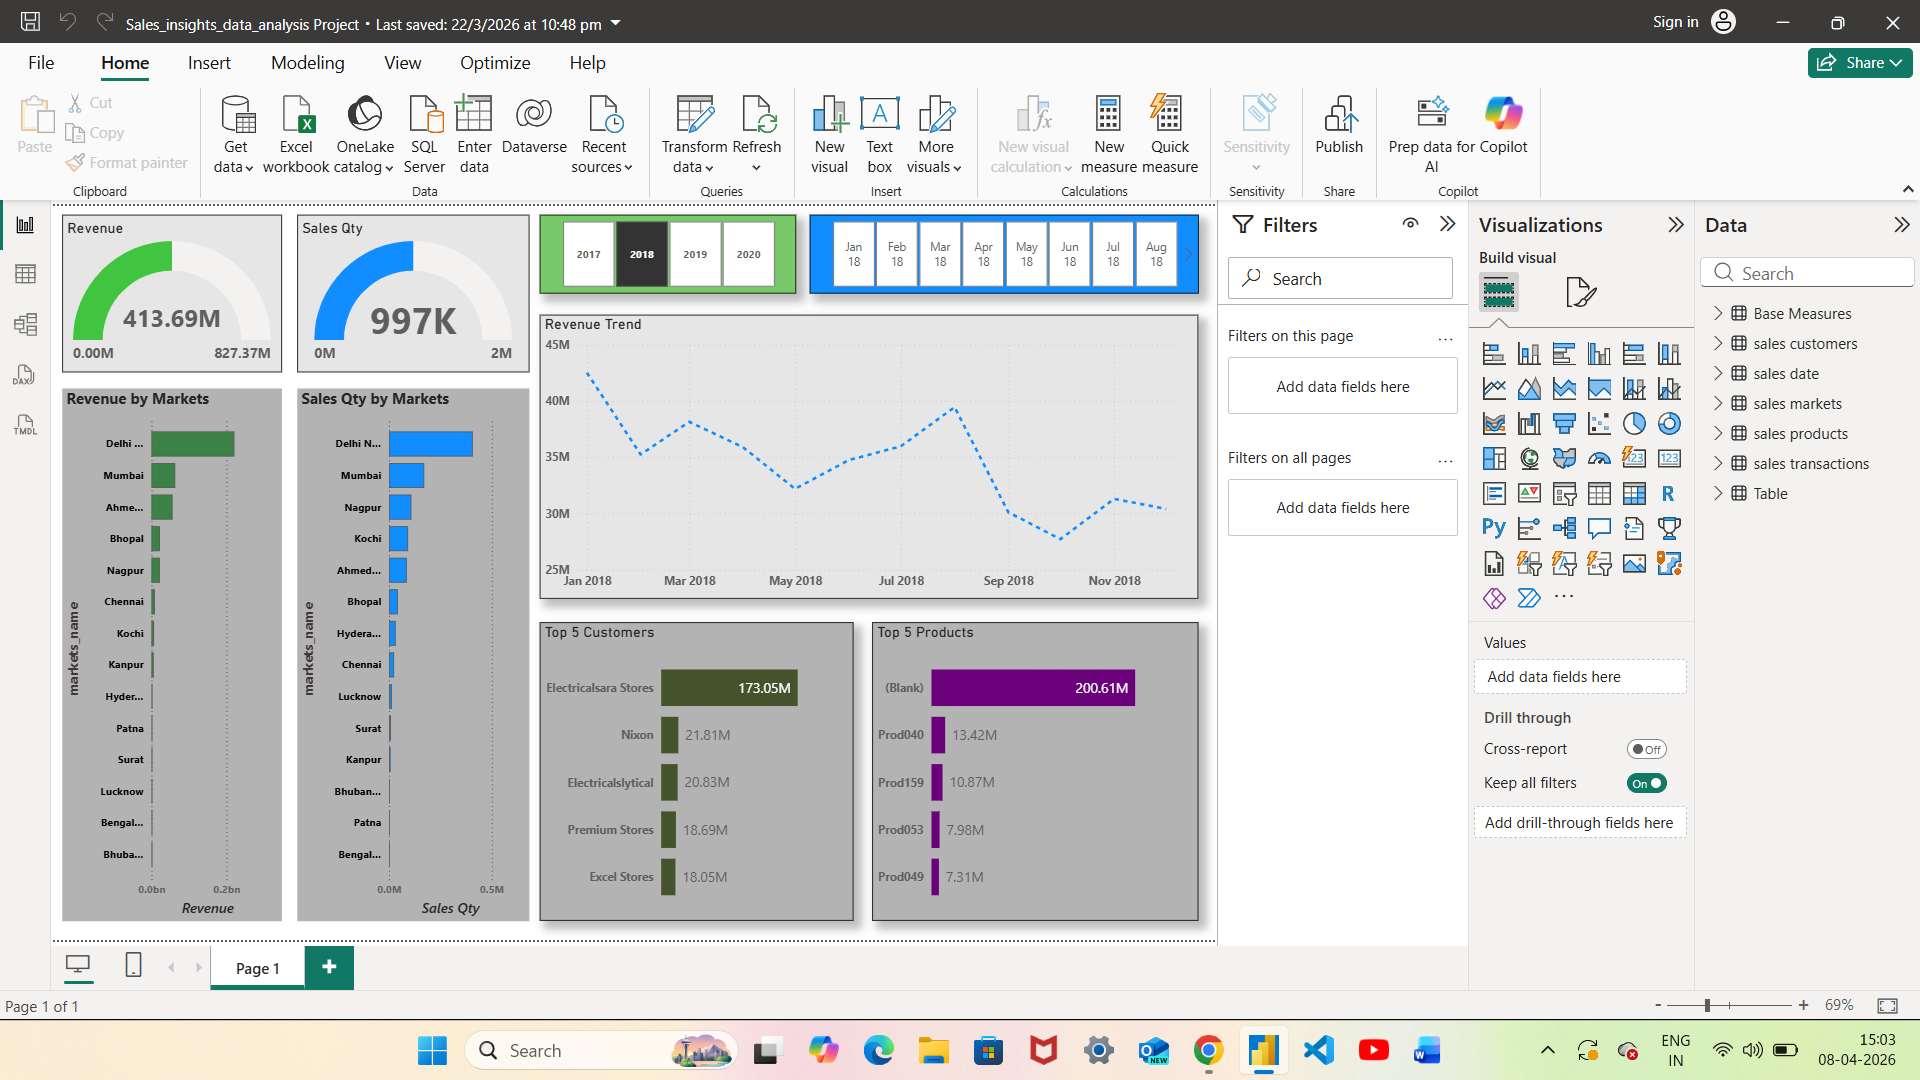

The page's visual inventory and layout, read from the dashboard file:
{"tool":"powerbi","page":{"name":"Page 1","canvas":[1350,850],"ordinal":0},"visuals":[{"type":"slicer","fields":{"Values":["sales date.year"]},"box":[565.9,10.1,296.7,91.2],"z":0},{"type":"slicer","fields":{"Values":["sales date.cy_date"]},"box":[878.5,10.1,450.1,91.2],"z":1000},{"type":"barChart","title":"Top 5 Customers","fields":{"Category":["sales customers.customer_name"],"Y":["Base Measures.Revenue"]},"box":[565.9,481.9,363.3,345.9],"z":2000},{"type":"lineChart","title":"Revenue Trend","fields":{"Y":["Base Measures.Revenue"],"Category":["sales date.cy_date"]},"box":[565.9,125.9,762.7,328.5],"z":3000},{"type":"barChart","title":"Revenue by Markets","fields":{"Category":["sales markets.markets_name"],"Y":["Base Measures.Revenue"]},"box":[13,211.3,254.7,616.5],"z":4000},{"type":"gauge","fields":{"Y":["Base Measures.Revenue"]},"box":[13,10.1,254.7,182.4],"z":5000},{"type":"gauge","fields":{"Y":["Base Measures.Sales Qty"]},"box":[285.1,10.1,269.2,182.4],"z":6000},{"type":"barChart","title":"Sales Qty by Markets","fields":{"Category":["sales markets.markets_name"],"Y":["Base Measures.Sales Qty"]},"box":[285.1,211.3,269.2,616.5],"z":7000},{"type":"barChart","title":"Top 5 Products","fields":{"Y":["Base Measures.Revenue"],"Category":["sales products.product_code"]},"box":[950.9,481.9,377.7,345.9],"z":8000}]}

Visuals, with their boxes on the page's 1350x850 design canvas (x1, y1, x2, y2). These are canvas units, not pixel positions in the 1920x1080 screenshot, which may show the page scaled, cropped or inside an application window:
slicer - sales date.year: box(566, 10, 863, 101)
slicer - sales date.cy_date: box(878, 10, 1329, 101)
"Top 5 Customers" barChart: box(566, 482, 929, 828)
"Revenue Trend" lineChart: box(566, 126, 1329, 454)
"Revenue by Markets" barChart: box(13, 211, 268, 828)
gauge - Base Measures.Revenue: box(13, 10, 268, 192)
gauge - Base Measures.Sales Qty: box(285, 10, 554, 192)
"Sales Qty by Markets" barChart: box(285, 211, 554, 828)
"Top 5 Products" barChart: box(951, 482, 1329, 828)
